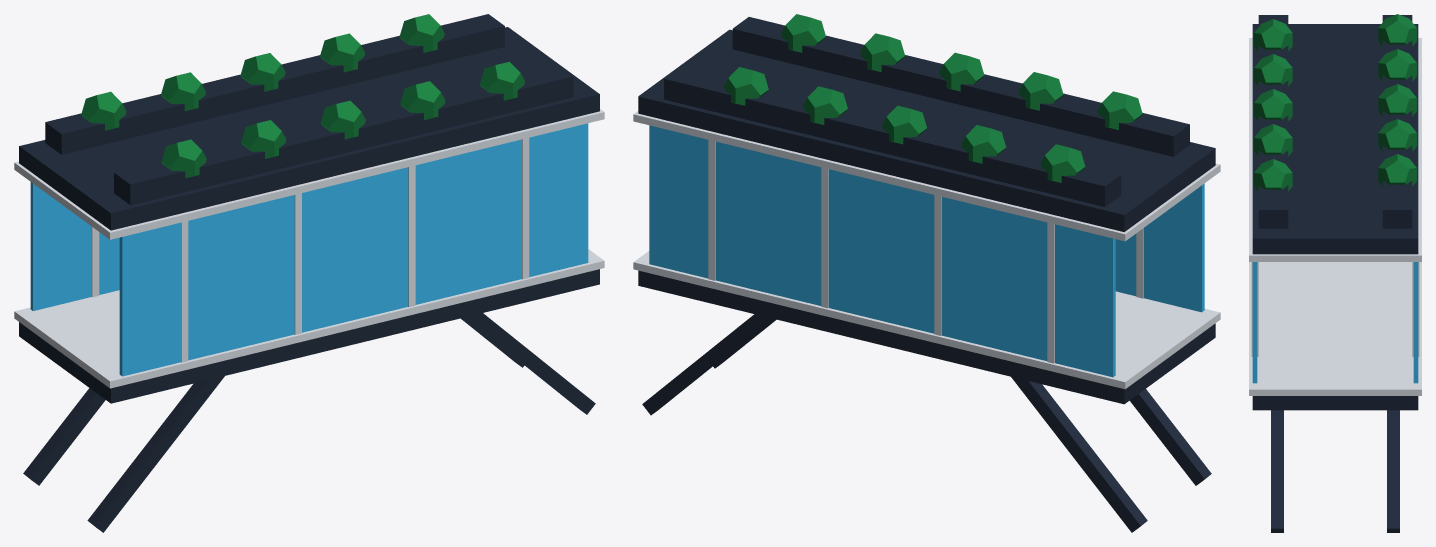
File: modern_skybridge.glb
3 views of the same model, side by side, from view 1: azimuth 30°, elevation 25°; view 2: azimuth 150°, elevation 25°; view 3: azimuth 270°, elevation 25° (orthographic). The views are drawn at different scales.
Visible parts, largest first — view 1: BridgeTrussFrame, SkywalkGlassWalls, AluminumFasciaTrim, RooftopPlanterFoliage; view 2: BridgeTrussFrame, SkywalkGlassWalls, AluminumFasciaTrim, RooftopPlanterFoliage; view 3: BridgeTrussFrame, AluminumFasciaTrim, RooftopPlanterFoliage, SkywalkGlassWalls.
Part boxes in pixels (box(x1,y1,x2,y2)): BridgeTrussFrame: box(19, 14, 599, 532); SkywalkGlassWalls: box(30, 123, 588, 376); AluminumFasciaTrim: box(14, 109, 604, 388); RooftopPlanterFoliage: box(81, 14, 524, 178); BridgeTrussFrame: box(638, 17, 1215, 532); SkywalkGlassWalls: box(649, 125, 1204, 377); AluminumFasciaTrim: box(633, 111, 1220, 389); RooftopPlanterFoliage: box(724, 14, 1142, 182); BridgeTrussFrame: box(1252, 15, 1418, 532); AluminumFasciaTrim: box(1249, 38, 1421, 395); RooftopPlanterFoliage: box(1254, 14, 1416, 191); SkywalkGlassWalls: box(1252, 262, 1418, 383).
Bounding box in the file's own units: 8.82 × 6.24 × 2.92.
